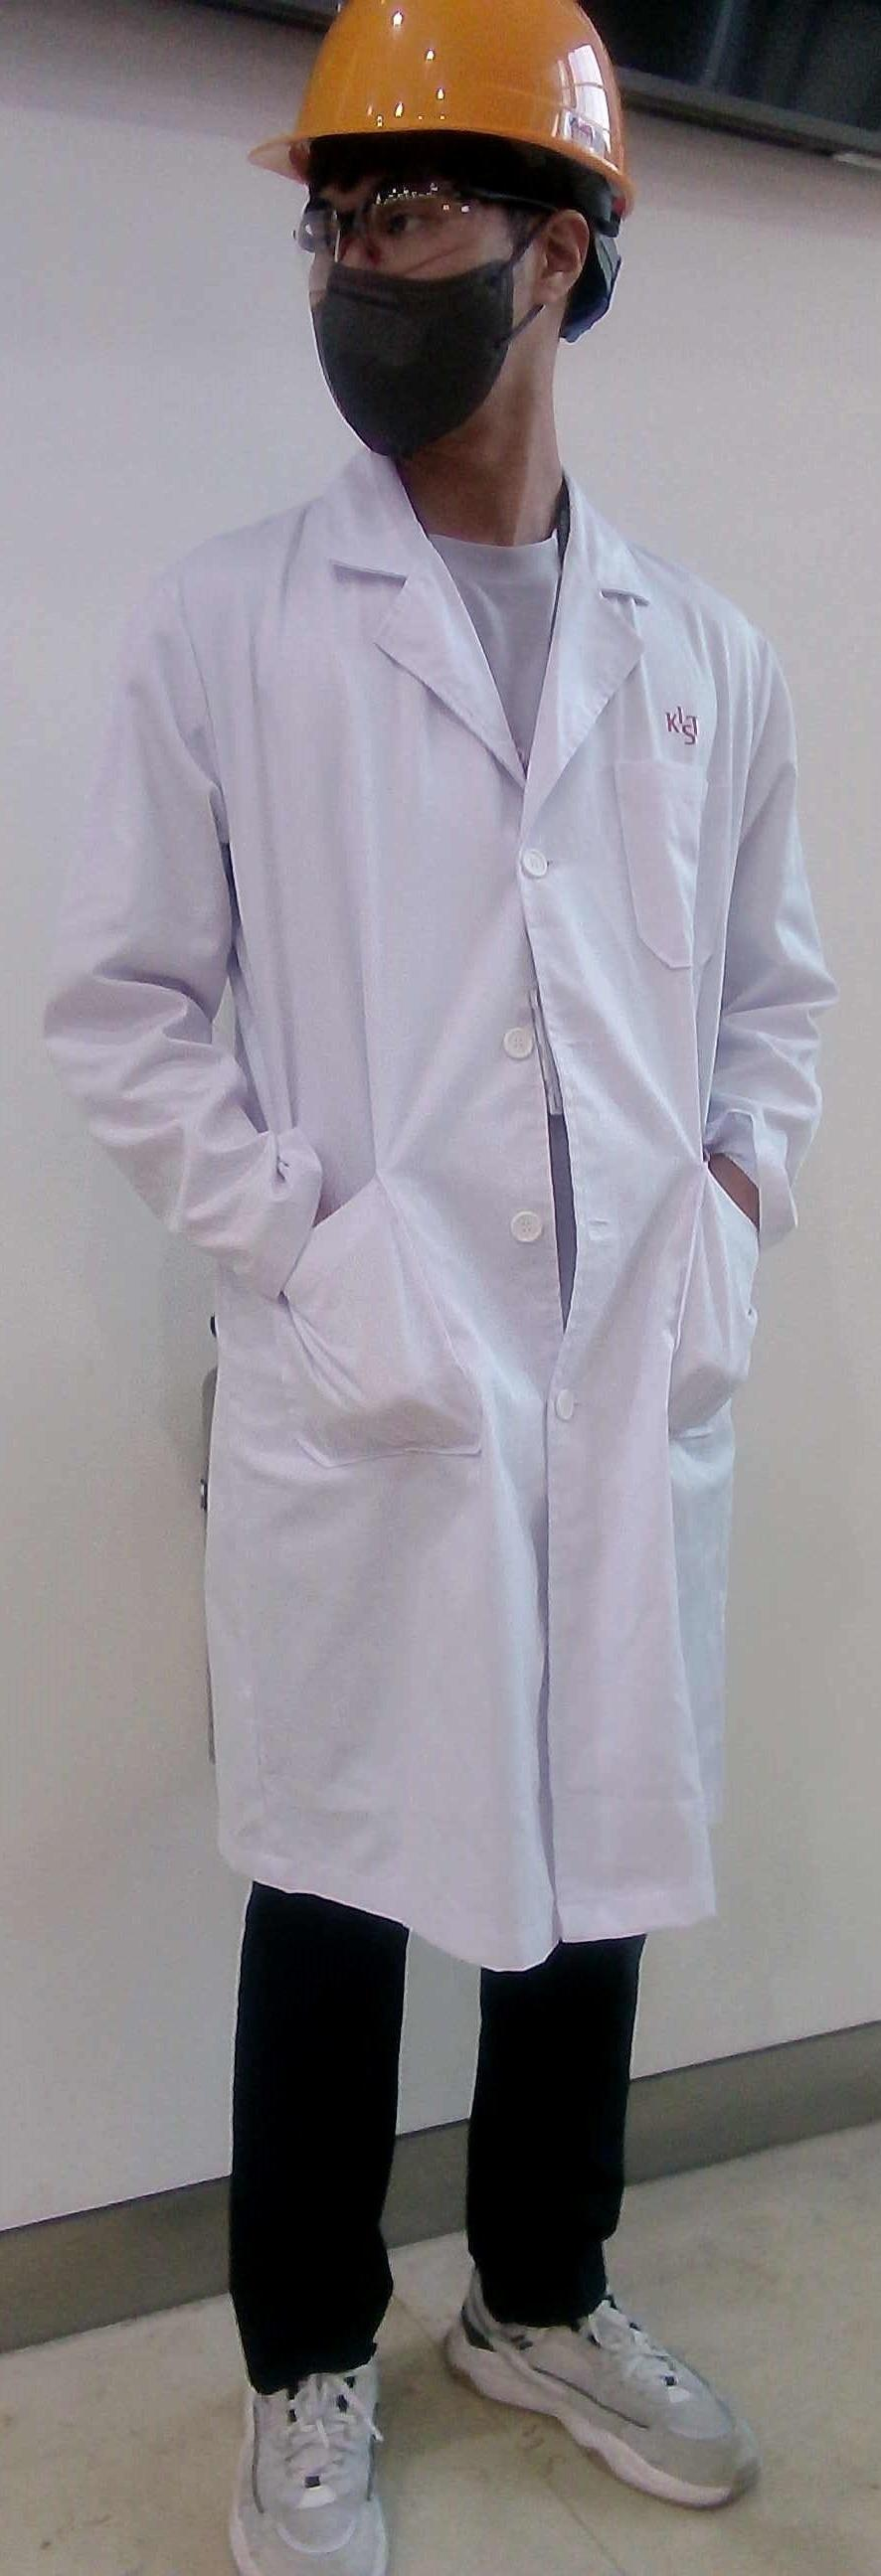lab_coat: (41, 531, 851, 1955)
